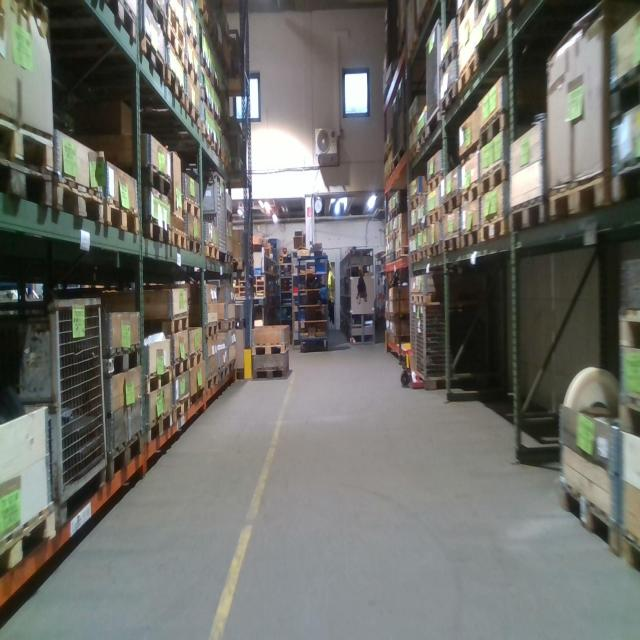pallet: (556, 475, 616, 549), (545, 168, 616, 230), (0, 505, 58, 575), (51, 167, 103, 235), (1, 109, 54, 169), (3, 169, 58, 215), (119, 159, 176, 200), (476, 108, 534, 148), (86, 1, 139, 44), (509, 188, 549, 243), (457, 47, 503, 94), (106, 427, 146, 481), (606, 60, 640, 117), (605, 161, 638, 218), (140, 307, 190, 340), (104, 336, 143, 378), (138, 31, 165, 88), (106, 198, 140, 242), (480, 159, 512, 201), (615, 526, 638, 578), (139, 213, 171, 250), (616, 388, 638, 439), (164, 25, 188, 69), (150, 401, 173, 446), (440, 72, 462, 119), (482, 212, 512, 246), (164, 4, 187, 48), (166, 65, 186, 114), (619, 305, 639, 353), (139, 1, 168, 33), (143, 367, 172, 398), (407, 292, 466, 307), (251, 361, 288, 384), (438, 37, 462, 72), (457, 133, 483, 165), (182, 17, 202, 55), (168, 221, 189, 256), (439, 186, 461, 217), (175, 394, 193, 431), (184, 92, 199, 135), (460, 176, 480, 208), (198, 48, 214, 88), (463, 224, 483, 255), (201, 116, 217, 154), (198, 82, 215, 116), (178, 192, 202, 216), (249, 340, 293, 353), (173, 348, 189, 383), (185, 53, 201, 88), (444, 228, 462, 259), (426, 174, 451, 196), (392, 145, 407, 177), (406, 191, 431, 210), (379, 142, 397, 166), (427, 207, 446, 228), (184, 233, 201, 256), (382, 160, 396, 187), (202, 240, 219, 262), (416, 126, 428, 157), (407, 110, 422, 134), (192, 346, 204, 375), (394, 225, 410, 246), (217, 316, 236, 333), (207, 367, 218, 396), (393, 201, 409, 220), (203, 319, 219, 337), (408, 138, 418, 166), (395, 246, 410, 263), (430, 240, 444, 258), (219, 362, 228, 387), (408, 249, 419, 269), (384, 253, 396, 269), (420, 246, 429, 265), (385, 228, 395, 244), (418, 217, 425, 239), (229, 355, 236, 377), (385, 208, 394, 221), (411, 221, 417, 240)
pallet_truck: (391, 265, 423, 391)
stillage: (1, 282, 113, 529), (416, 296, 491, 394), (195, 170, 228, 269), (426, 19, 451, 143), (411, 298, 417, 379)
